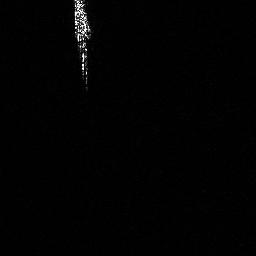ship: (70, 1, 94, 85)
